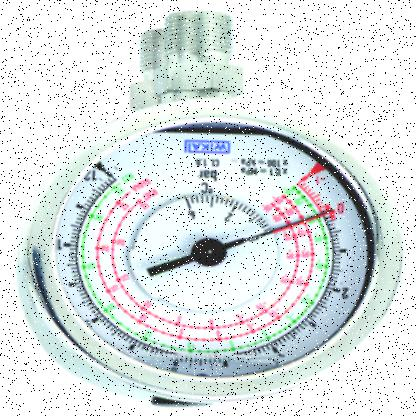needle: (222, 208, 335, 250)
